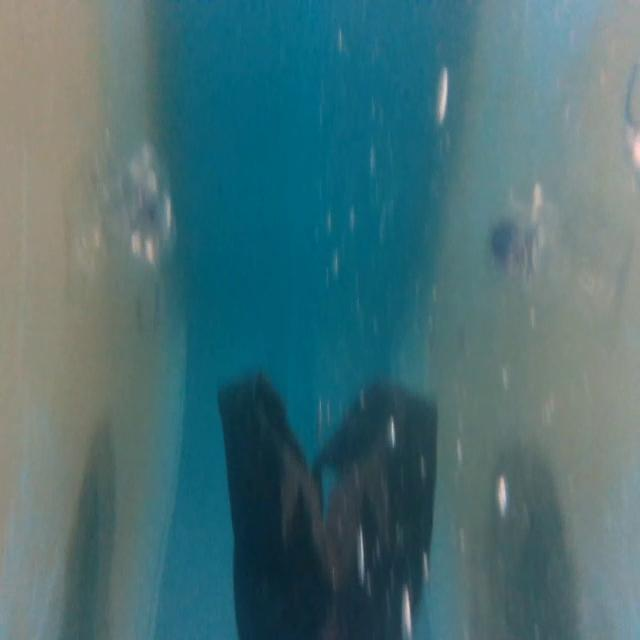plastic bags: (216, 364, 441, 640)
